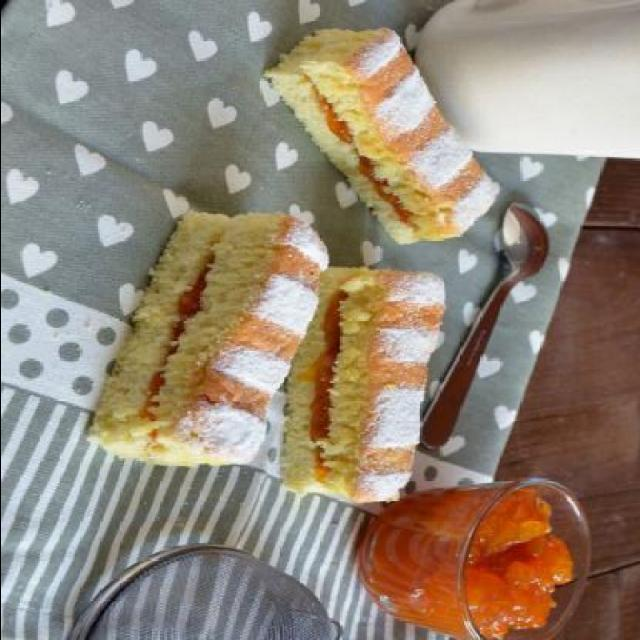Merendine packaged: (72, 208, 328, 472), (253, 26, 505, 252), (253, 266, 450, 504)
